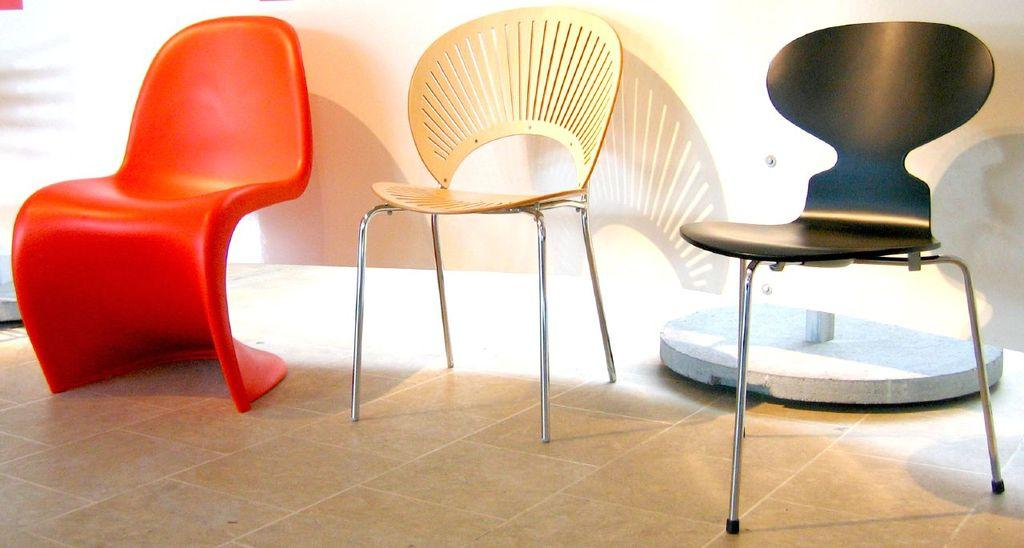Chair: (682, 16, 1010, 538), (349, 0, 622, 446), (7, 14, 291, 414)
